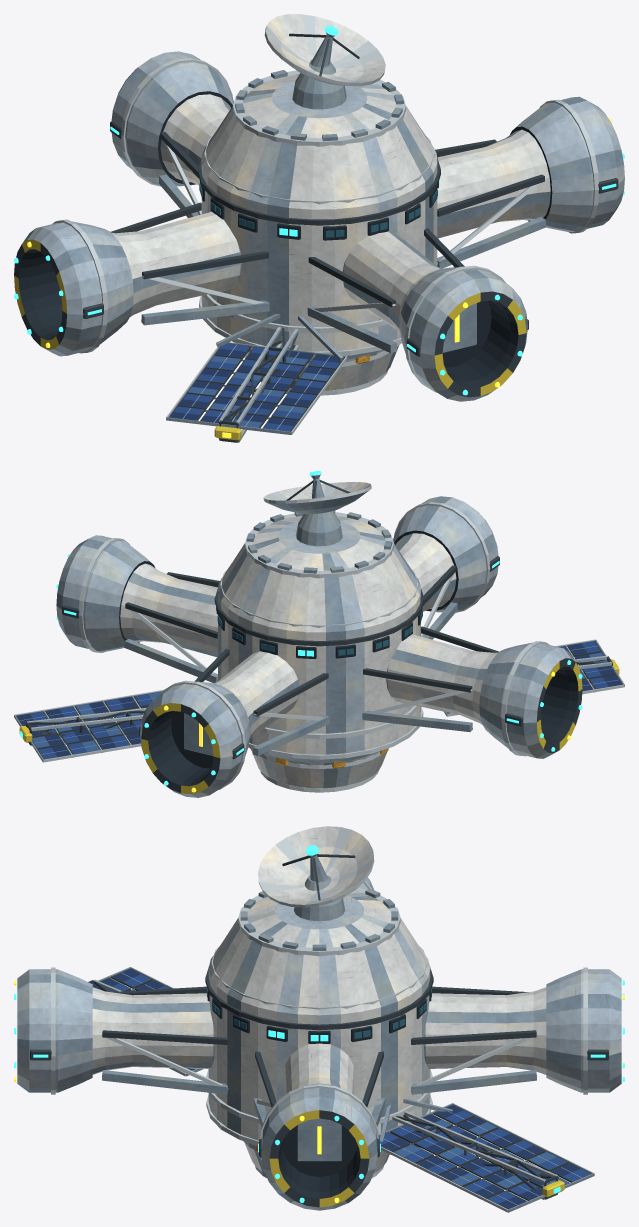
Rendered from orbital_docking_hub.glb.
The picture shows the model from 3 angles, top to bottom: view 1: azimuth 30°, elevation 25°; view 2: azimuth 150°, elevation 25°; view 3: azimuth 270°, elevation 25°; orthographic projection. The views are drawn at different scales.
Visible parts, largest first — view 1: Command drum | flight deck and armored airlock stack, Docking arm 03 | approach guidance and recessed pressure doo, Docking arm 04 | approach guidance and recessed pressure doo, Docking arm 01 | approach guidance and recessed pressure doo, Docking arm 02 | approach guidance and recessed pressure doo, Flanking photovoltaic arrays, Dorsal communications reflector; view 2: Command drum | flight deck and armored airlock stack, Docking arm 03 | approach guidance and recessed pressure doo, Docking arm 02 | approach guidance and recessed pressure doo, Docking arm 01 | approach guidance and recessed pressure doo, Docking arm 04 | approach guidance and recessed pressure doo, Flanking photovoltaic arrays, Dorsal communications reflector; view 3: Command drum | flight deck and armored airlock stack, Docking arm 02 | approach guidance and recessed pressure doo, Docking arm 04 | approach guidance and recessed pressure doo, Docking arm 01 | approach guidance and recessed pressure doo, Flanking photovoltaic arrays, Dorsal communications reflector.
Boxes of the visible parts, x1,y1,x2,y2 form: Command drum | flight deck and armored airlock stack: [198, 70, 440, 395]; Docking arm 03 | approach guidance and recessed pressure doo: [14, 202, 269, 356]; Docking arm 04 | approach guidance and recessed pressure doo: [307, 228, 528, 401]; Docking arm 01 | approach guidance and recessed pressure doo: [435, 96, 624, 268]; Docking arm 02 | approach guidance and recessed pressure doo: [110, 51, 233, 217]; Flanking photovoltaic arrays: [166, 314, 347, 442]; Dorsal communications reflector: [264, 14, 385, 109]; Command drum | flight deck and armored airlock stack: [214, 510, 424, 792]; Docking arm 03 | approach guidance and recessed pressure doo: [362, 626, 582, 758]; Docking arm 02 | approach guidance and recessed pressure doo: [139, 648, 329, 797]; Docking arm 01 | approach guidance and recessed pressure doo: [56, 535, 219, 683]; Docking arm 04 | approach guidance and recessed pressure doo: [393, 496, 499, 639]; Flanking photovoltaic arrays: [14, 639, 624, 762]; Dorsal communications reflector: [263, 471, 371, 546]; Command drum | flight deck and armored airlock stack: [205, 887, 433, 1177]; Docking arm 02 | approach guidance and recessed pressure doo: [410, 967, 624, 1094]; Docking arm 04 | approach guidance and recessed pressure doo: [14, 967, 228, 1094]; Docking arm 01 | approach guidance and recessed pressure doo: [253, 1043, 385, 1210]; Flanking photovoltaic arrays: [88, 967, 594, 1212]; Dorsal communications reflector: [258, 826, 374, 921].
Bounding box in the file's own units: 48 × 28 × 48.
15 materials, 4 textured.
